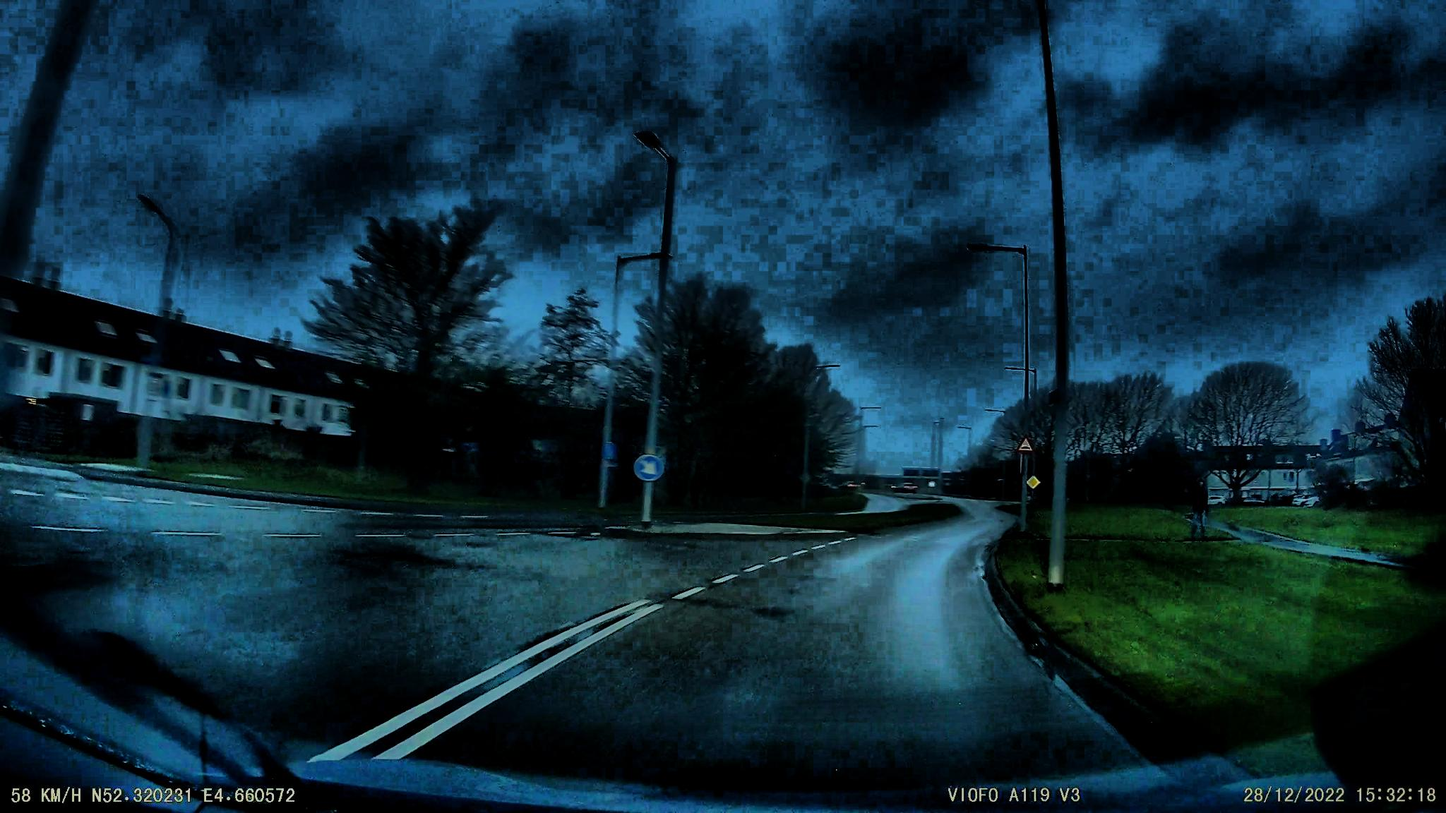Roads: (0, 464, 1166, 813)
